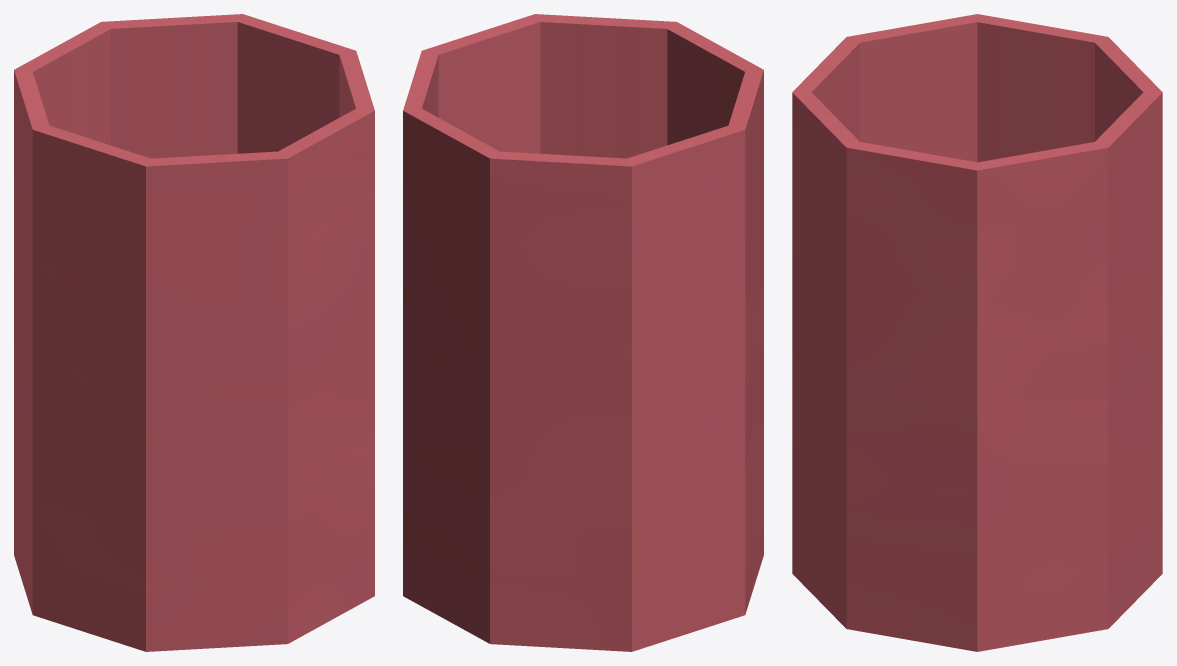
The model's file is Cup_mini_4.fbx.
3 renders of one model, left to right at view 1: azimuth 30°, elevation 25°; view 2: azimuth 150°, elevation 25°; view 3: azimuth 270°, elevation 25°, orthographic.
Parts seen in each view (by area): view 1: Cup_mini_4; view 2: Cup_mini_4; view 3: Cup_mini_4.
Boxes of the visible parts, <box> form: Cup_mini_4: <box>14,14,374,651</box>; Cup_mini_4: <box>403,14,763,651</box>; Cup_mini_4: <box>792,14,1162,651</box>.
Size of the model in its own units: 2.42 by 3.47 by 2.42.
